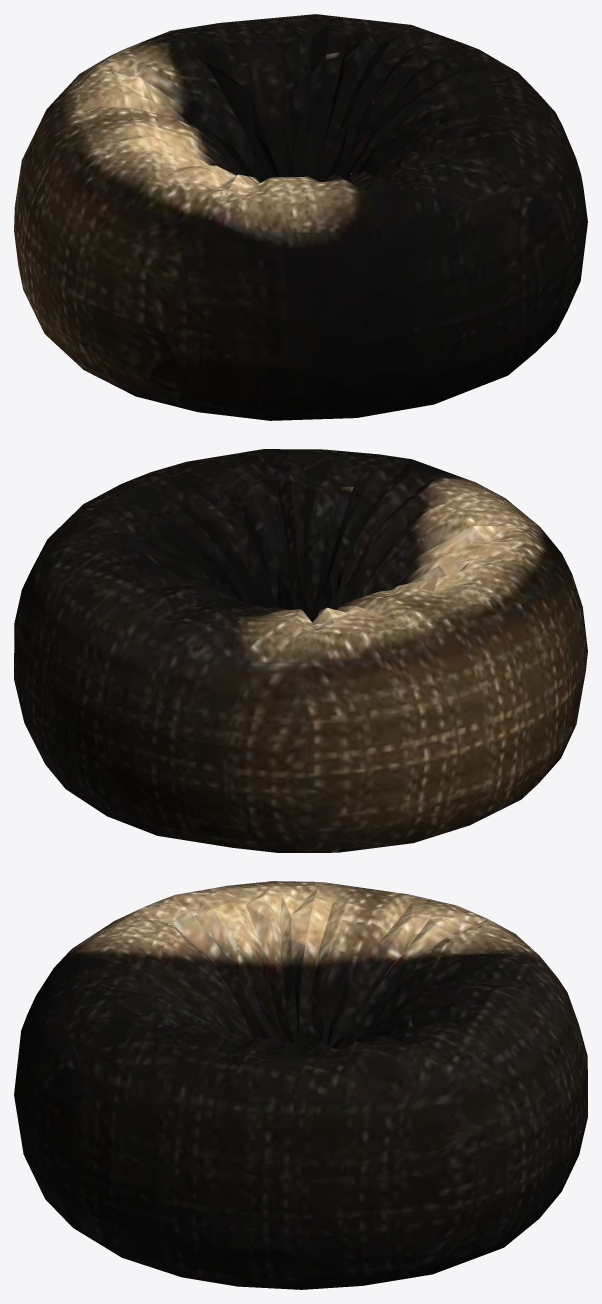
The model's file is beanbag2-transformed.glb.
3 renders of one model, top to bottom at view 1: azimuth 30°, elevation 25°; view 2: azimuth 150°, elevation 25°; view 3: azimuth 270°, elevation 25°, orthographic.
Visible parts, largest first — view 1: beanbag2; view 2: beanbag2; view 3: beanbag2.
Boxes of the visible parts, x1,y1,x2,y2 form: beanbag2: [14, 14, 587, 420]; beanbag2: [14, 449, 587, 852]; beanbag2: [14, 881, 587, 1289].
Size of the model in its own units: 1.22 by 0.513 by 1.21.
1 material, 1 textured.
